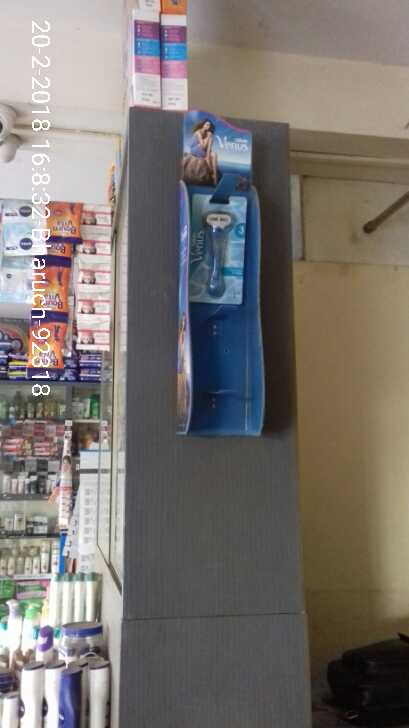beauty: (190, 193, 248, 310)
